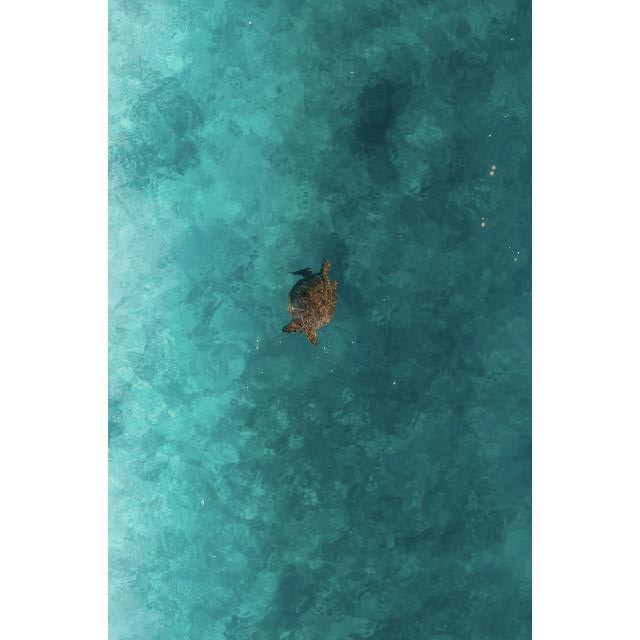turtle: (281, 258, 339, 346)
